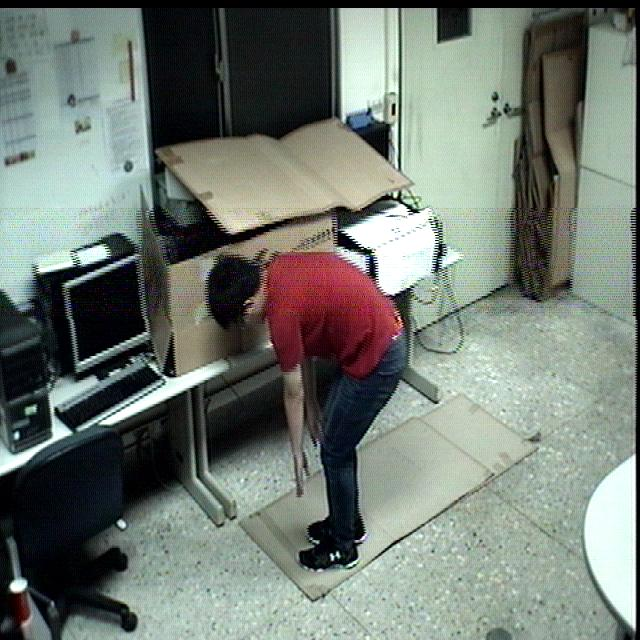bend: (202, 230, 414, 582)
